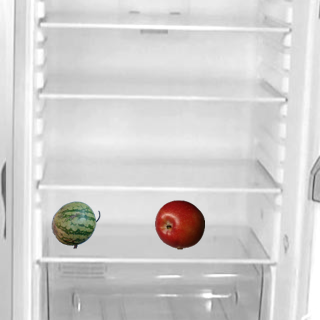Apple Braeburn: (154, 199, 204, 249)
Watermelon: (50, 199, 100, 249)
